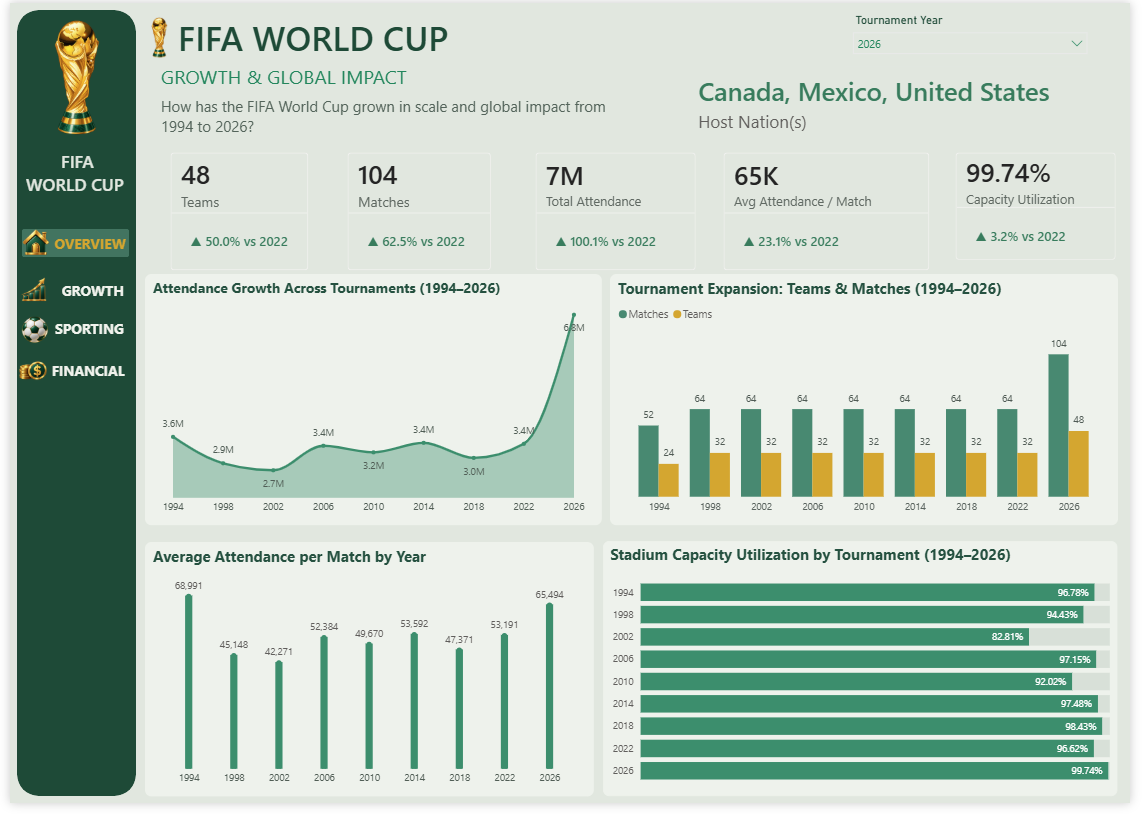

This screenshot's page, from the dashboard's own definition file:
{"tool":"powerbi","page":{"name":"World Cup Growth & Global Impact","canvas":[1400,1000],"ordinal":0},"visuals":[{"type":"shape","box":[8.8,8.8,148.8,982.5],"z":0},{"type":"textbox","box":[205,8.8,412.5,71.2],"z":1000},{"type":"textbox","box":[183.8,70,412.5,51.2],"z":2000},{"type":"textbox","box":[183.8,111.2,596.2,67.5],"z":3000},{"type":"slicer","fields":{"Values":["Dim_Tournament.Year"]},"box":[1043.8,8.8,312.5,71.2],"z":4000},{"type":"cardVisual","fields":{"Data":["_Measures.Number of Teams"]},"box":[183.8,170,206.2,181.2],"z":5000},{"type":"cardVisual","fields":{"Data":["_Measures.Number of Matches"]},"box":[405,170,213,181],"z":6000},{"type":"cardVisual","fields":{"Data":["_Measures.Average Attendance per Match"]},"box":[874.4,170,291.1,181.1],"z":7000},{"type":"cardVisual","fields":{"Data":["_Measures.Total Attendance"]},"box":[640,170,234,181],"z":8000},{"type":"cardVisual","fields":{"Data":["_Measures.Capacity Utilization Display"]},"box":[1165.6,170,234.4,168.9],"z":9000},{"type":"clusteredColumnChart","title":"Tournament Expansion: Teams & Matches (1994–2026)","fields":{"Category":["Dim_Tournament.Year"],"Y":["_Measures.Number of Matches","_Measures.Number of Teams"]},"box":[750,338.8,635,313.8],"z":10000},{"type":"areaChart","title":"Attendance Growth Across Tournaments (1994–2026)","fields":{"Y":["_Measures.Total Attendance"],"Category":["Dim_Tournament.Year"]},"box":[168.8,338.8,571.2,313.8],"z":11000},{"type":"clusteredColumnChart","fields":{"Y":["_Measures.Average Attendance per Match"],"Category":["Dim_Tournament.Year"]},"box":[168.8,673.8,561.2,317.5],"z":12000},{"type":"hundredPercentStackedBarChart","title":"Stadium Capacity Utilization by Tournament (1994–2026)","fields":{"Category":["Dim_Tournament.Year"],"Y":["_Measures.Capacity Utilization","_Measures.Unused Capacity %"]},"box":[741.2,672.5,642.5,318.8],"z":13000},{"type":"cardVisual","fields":{"Data":["_Measures.Selected Host"]},"box":[831.2,70,568.8,108.8],"z":14000},{"type":"image","box":[152.5,16.2,68.8,53.8],"z":15000},{"type":"image","box":[8.8,16.2,148.8,153.8],"z":16000},{"type":"actionButton","title":"OVERVIEW","box":[15,282.5,133.8,35],"z":17000},{"type":"textbox","box":[15,178.8,137.5,76.2],"z":18000},{"type":"actionButton","title":"GROWTH","box":[15,341.2,131.2,35],"z":18001},{"type":"actionButton","title":"SPORTING","box":[48.8,391.2,97.5,27.5],"z":18002},{"type":"actionButton","title":"FINANCIAL","box":[47.5,441.2,100,35],"z":18003},{"type":"image","box":[15,282.5,35,35],"z":18004},{"type":"image","box":[11.2,341.2,35,35],"z":18005},{"type":"image","box":[13.8,391.2,35,35],"z":18006},{"type":"image","box":[11.2,442.5,35,35],"z":18007}]}

Visuals, with their boxes in screenshot pixels (x1, y1, x2, y2), scaled from the page's 1400x1000 canvas onto the 1147x814 screenshot:
shape: {"x1": 7, "y1": 7, "x2": 129, "y2": 807}
textbox: {"x1": 168, "y1": 7, "x2": 506, "y2": 65}
textbox: {"x1": 151, "y1": 57, "x2": 489, "y2": 99}
textbox: {"x1": 151, "y1": 91, "x2": 639, "y2": 145}
slicer - Dim_Tournament.Year: {"x1": 855, "y1": 7, "x2": 1111, "y2": 65}
cardVisual - _Measures.Number of Teams: {"x1": 151, "y1": 138, "x2": 320, "y2": 286}
cardVisual - _Measures.Number of Matches: {"x1": 332, "y1": 138, "x2": 506, "y2": 286}
cardVisual - _Measures.Average Attendance per Match: {"x1": 716, "y1": 138, "x2": 955, "y2": 286}
cardVisual - _Measures.Total Attendance: {"x1": 524, "y1": 138, "x2": 716, "y2": 286}
cardVisual - _Measures.Capacity Utilization Display: {"x1": 955, "y1": 138, "x2": 1146, "y2": 276}
"Tournament Expansion: Teams & Matches (1994–2026)" clusteredColumnChart: {"x1": 614, "y1": 276, "x2": 1135, "y2": 531}
"Attendance Growth Across Tournaments (1994–2026)" areaChart: {"x1": 138, "y1": 276, "x2": 606, "y2": 531}
clusteredColumnChart - _Measures.Average Attendance per Match x Dim_Tournament.Year: {"x1": 138, "y1": 548, "x2": 598, "y2": 807}
"Stadium Capacity Utilization by Tournament (1994–2026)" hundredPercentStackedBarChart: {"x1": 607, "y1": 547, "x2": 1134, "y2": 807}
cardVisual - _Measures.Selected Host: {"x1": 681, "y1": 57, "x2": 1146, "y2": 146}
image: {"x1": 125, "y1": 13, "x2": 181, "y2": 57}
image: {"x1": 7, "y1": 13, "x2": 129, "y2": 138}
"OVERVIEW" actionButton: {"x1": 12, "y1": 230, "x2": 122, "y2": 258}
textbox: {"x1": 12, "y1": 146, "x2": 125, "y2": 208}
"GROWTH" actionButton: {"x1": 12, "y1": 278, "x2": 120, "y2": 306}
"SPORTING" actionButton: {"x1": 40, "y1": 318, "x2": 120, "y2": 341}
"FINANCIAL" actionButton: {"x1": 39, "y1": 359, "x2": 121, "y2": 388}
image: {"x1": 12, "y1": 230, "x2": 41, "y2": 258}
image: {"x1": 9, "y1": 278, "x2": 38, "y2": 306}
image: {"x1": 11, "y1": 318, "x2": 40, "y2": 347}
image: {"x1": 9, "y1": 360, "x2": 38, "y2": 389}
